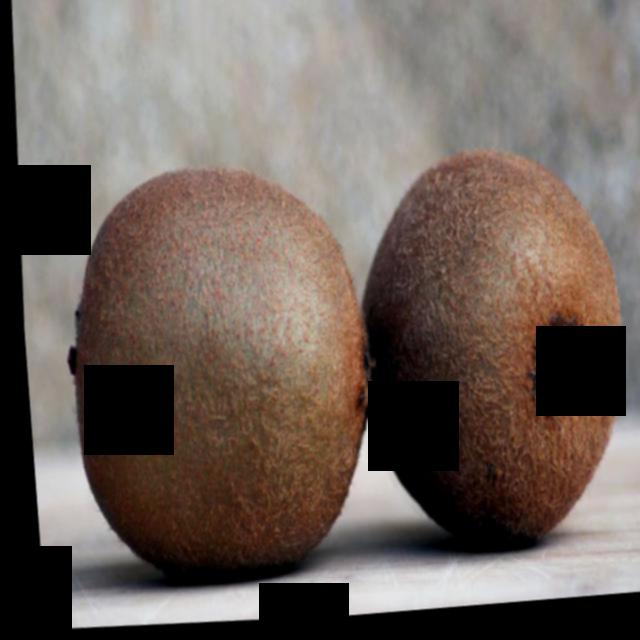kiwi: (42, 153, 387, 602), (337, 140, 638, 576)
